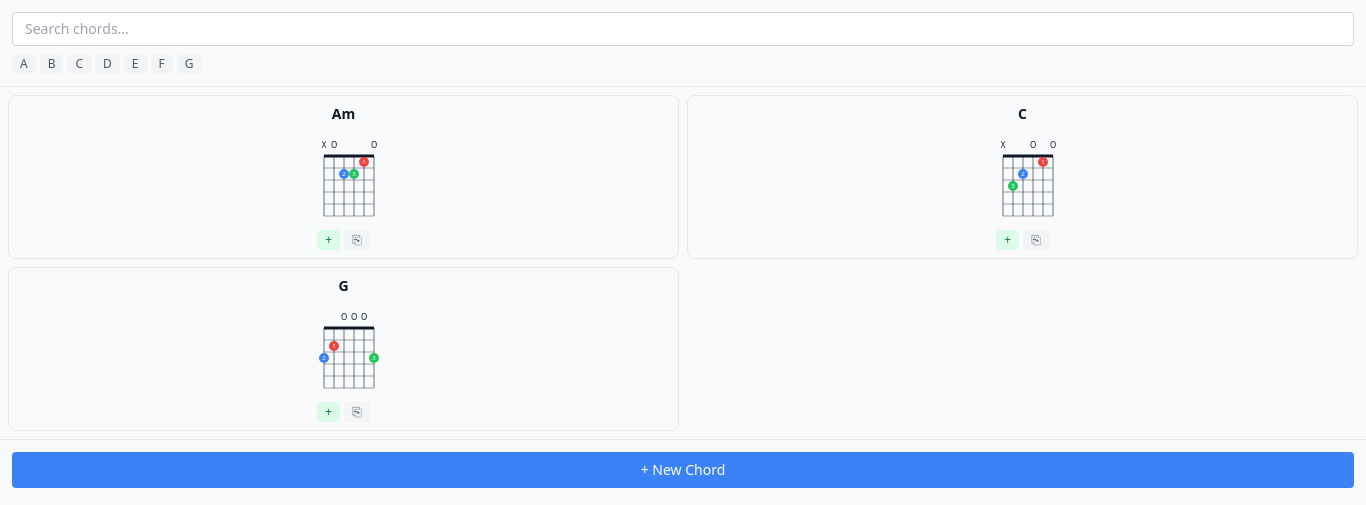
Scenario: ChordLibrary › clears root note filter when same note is clicked again
The width and height of the screenshot is (1366, 505).
Step 1. Click the button "A" → (24,64), box [12,54,36,74]
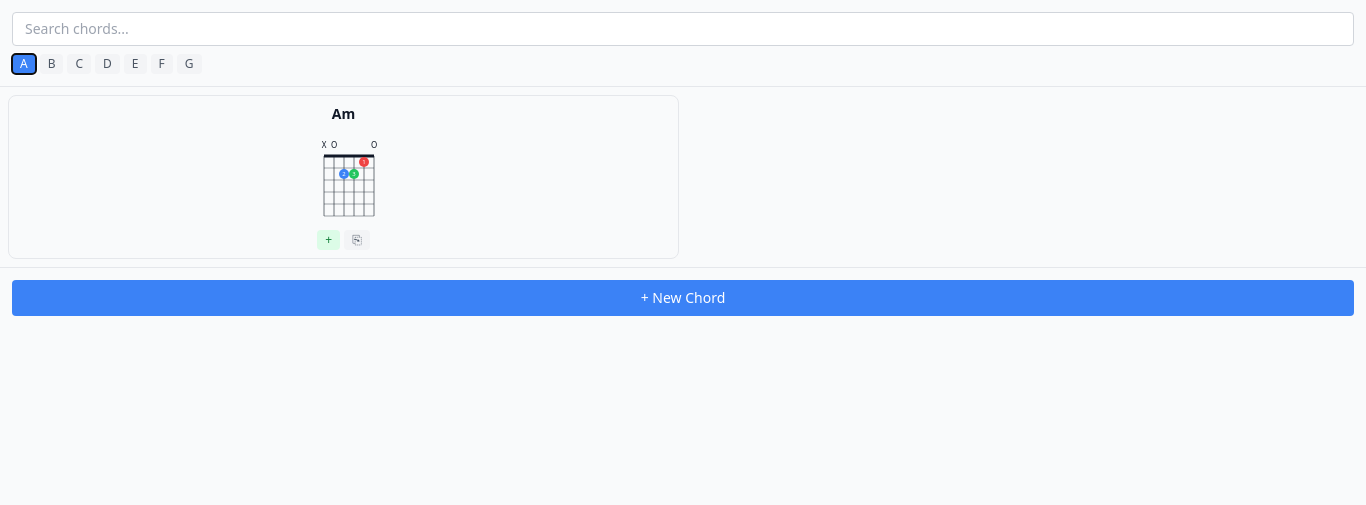
Step 2. Click the button "A" → (24,64), box [12,54,36,74]
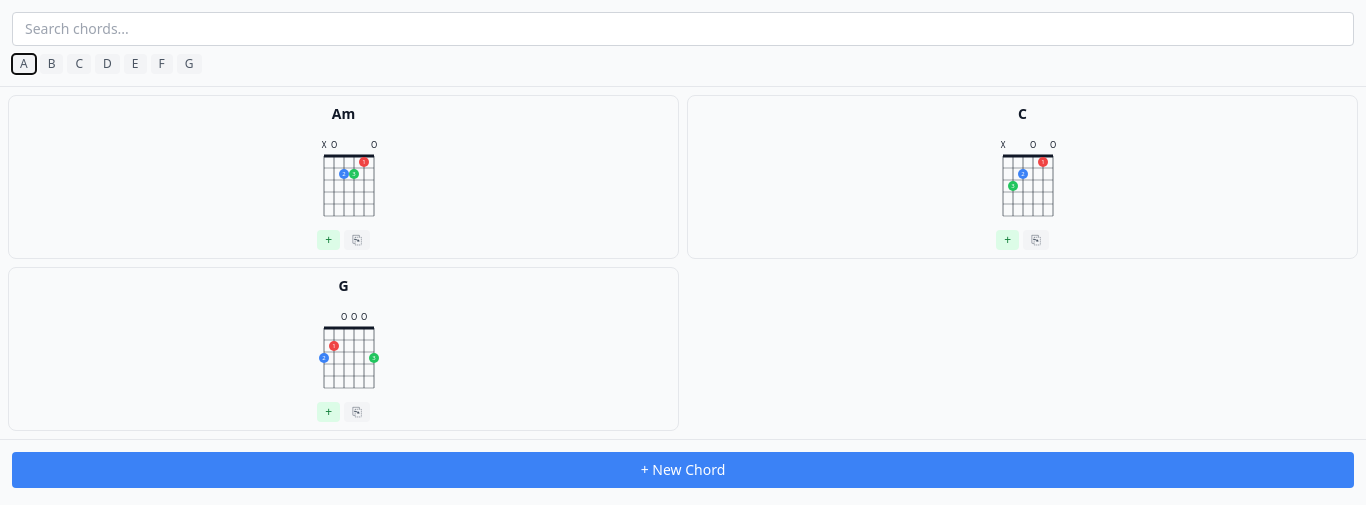
expect the text "Am" is shown: met, box [332,104,355,124]
expect the text "C" is shown: met, box [1018,104,1027,124]
expect the text "G" is shown: met, box [338,276,348,296]
